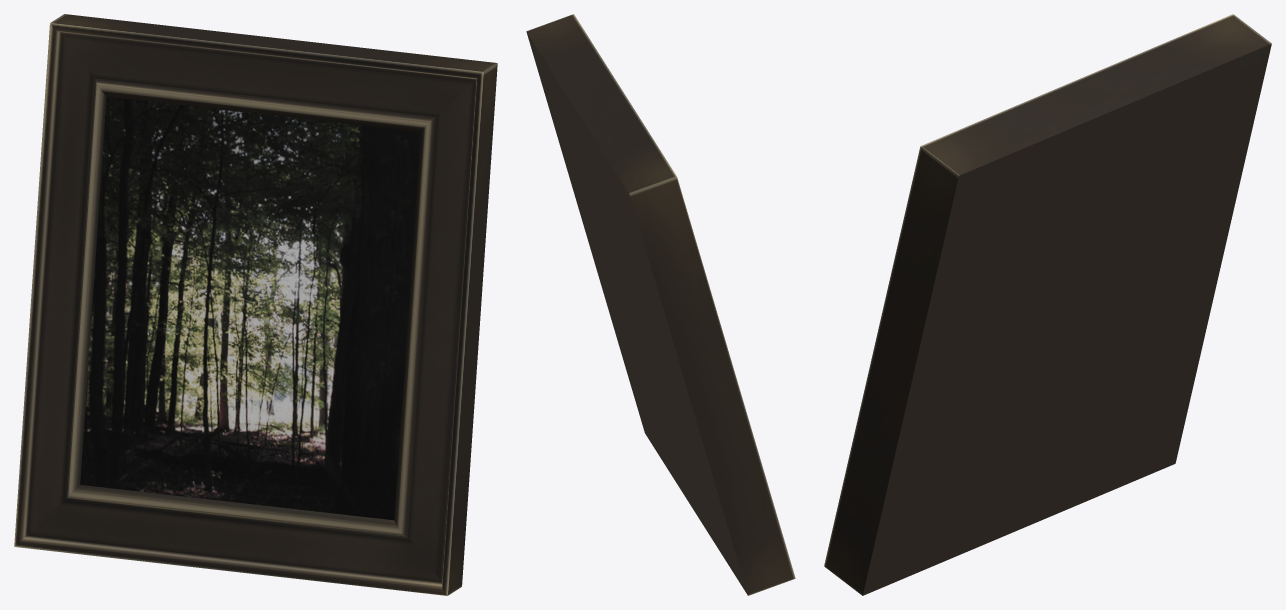
File: Frame03.FBX
3 renders of one model, left to right at view 1: azimuth 30°, elevation 25°; view 2: azimuth 150°, elevation 25°; view 3: azimuth 270°, elevation 25°, orthographic. The views are drawn at different scales.
Visible parts, largest first — view 1: Box115; view 2: Box115; view 3: Box115.
Part boxes in pixels (box(x1,y1,x2,y2)): Box115: box(14, 14, 497, 595); Box115: box(526, 14, 795, 595); Box115: box(824, 14, 1271, 595).
Size of the model in its own units: 120 by 140 by 120.
Materials: 1 (1 with a texture image).
